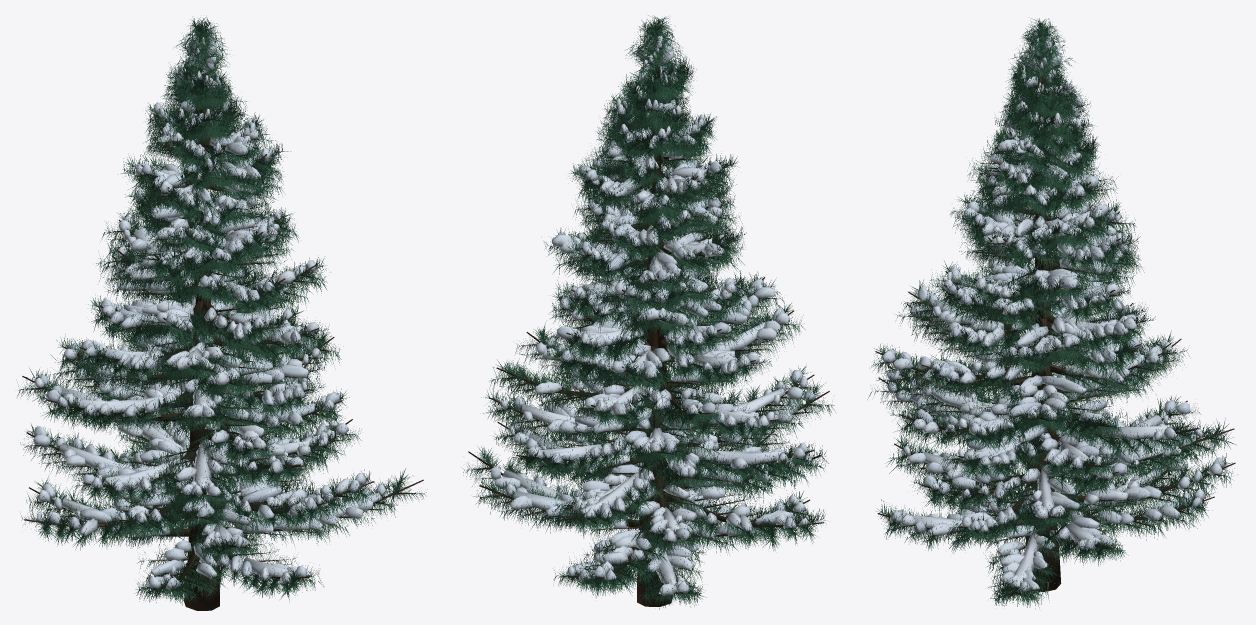
File: snowy-pine-photo.glb
3 views of the same model, side by side, from view 1: azimuth 30°, elevation 25°; view 2: azimuth 150°, elevation 25°; view 3: azimuth 270°, elevation 25° (orthographic). The views are drawn at different scales.
Parts seen in each view (by area): view 1: Snowy pine | individual evergreen needles, Snowy pine | uneven snow on branches, Snowy pine | trunk and branching boughs; view 2: Snowy pine | individual evergreen needles, Snowy pine | uneven snow on branches, Snowy pine | trunk and branching boughs; view 3: Snowy pine | individual evergreen needles, Snowy pine | uneven snow on branches, Snowy pine | trunk and branching boughs.
Part boxes in pixels (<box>): Snowy pine | individual evergreen needles: <box>17,17,427,605</box>; Snowy pine | uneven snow on branches: <box>33,34,387,589</box>; Snowy pine | trunk and branching boughs: <box>22,48,423,610</box>; Snowy pine | individual evergreen needles: <box>462,15,835,609</box>; Snowy pine | uneven snow on branches: <box>490,30,815,595</box>; Snowy pine | trunk and branching boughs: <box>468,35,829,606</box>; Snowy pine | individual evergreen needles: <box>867,18,1236,608</box>; Snowy pine | uneven snow on branches: <box>881,33,1224,592</box>; Snowy pine | trunk and branching boughs: <box>875,50,1235,597</box>.
Bounding box in the file's own units: 5.54 × 8.2 × 4.92.
6 materials, 6 textured.
